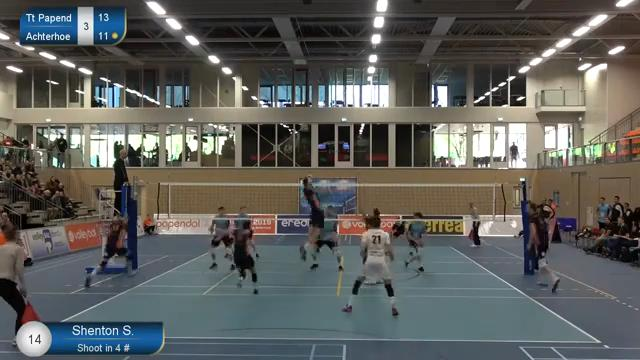attacco: (286, 173, 333, 271)
